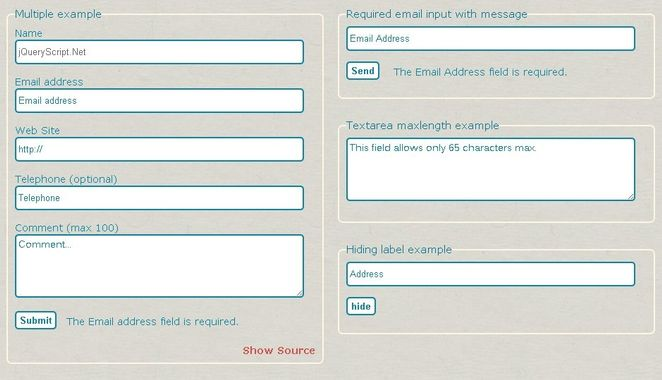button: (14, 310, 57, 330), (345, 60, 381, 80), (347, 296, 376, 316)
field: (13, 233, 305, 299), (345, 137, 636, 202), (346, 260, 637, 288), (14, 38, 304, 66), (14, 86, 304, 114), (13, 135, 305, 162), (345, 25, 637, 52), (13, 184, 304, 211)
